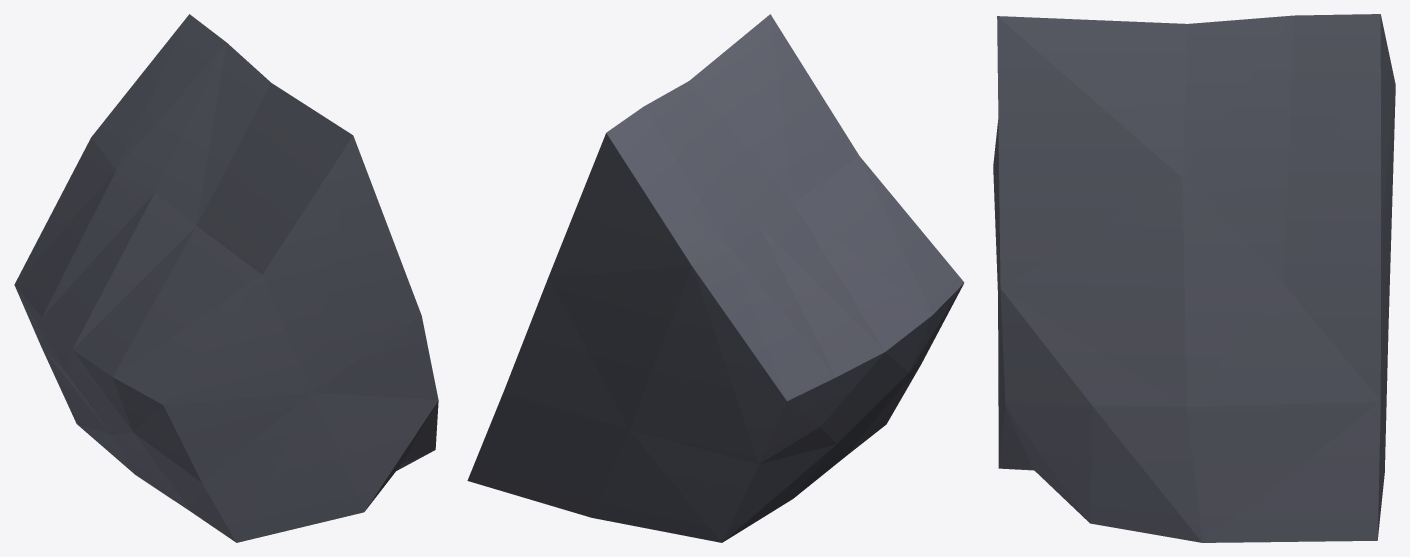
File: Ruins_08.fbx
3 views of the same model, side by side, from view 1: azimuth 30°, elevation 25°; view 2: azimuth 150°, elevation 25°; view 3: azimuth 270°, elevation 25° (orthographic). The views are drawn at different scales.
Parts seen in each view (by area): view 1: Ruins_08; view 2: Ruins_08; view 3: Ruins_08.
Boxes of the visible parts, x1,y1,x2,y2 form: Ruins_08: (14,14,438,542); Ruins_08: (467,14,964,542); Ruins_08: (993,14,1395,542).
Size of the model in its own units: 0.5125 by 0.5607 by 0.447.
